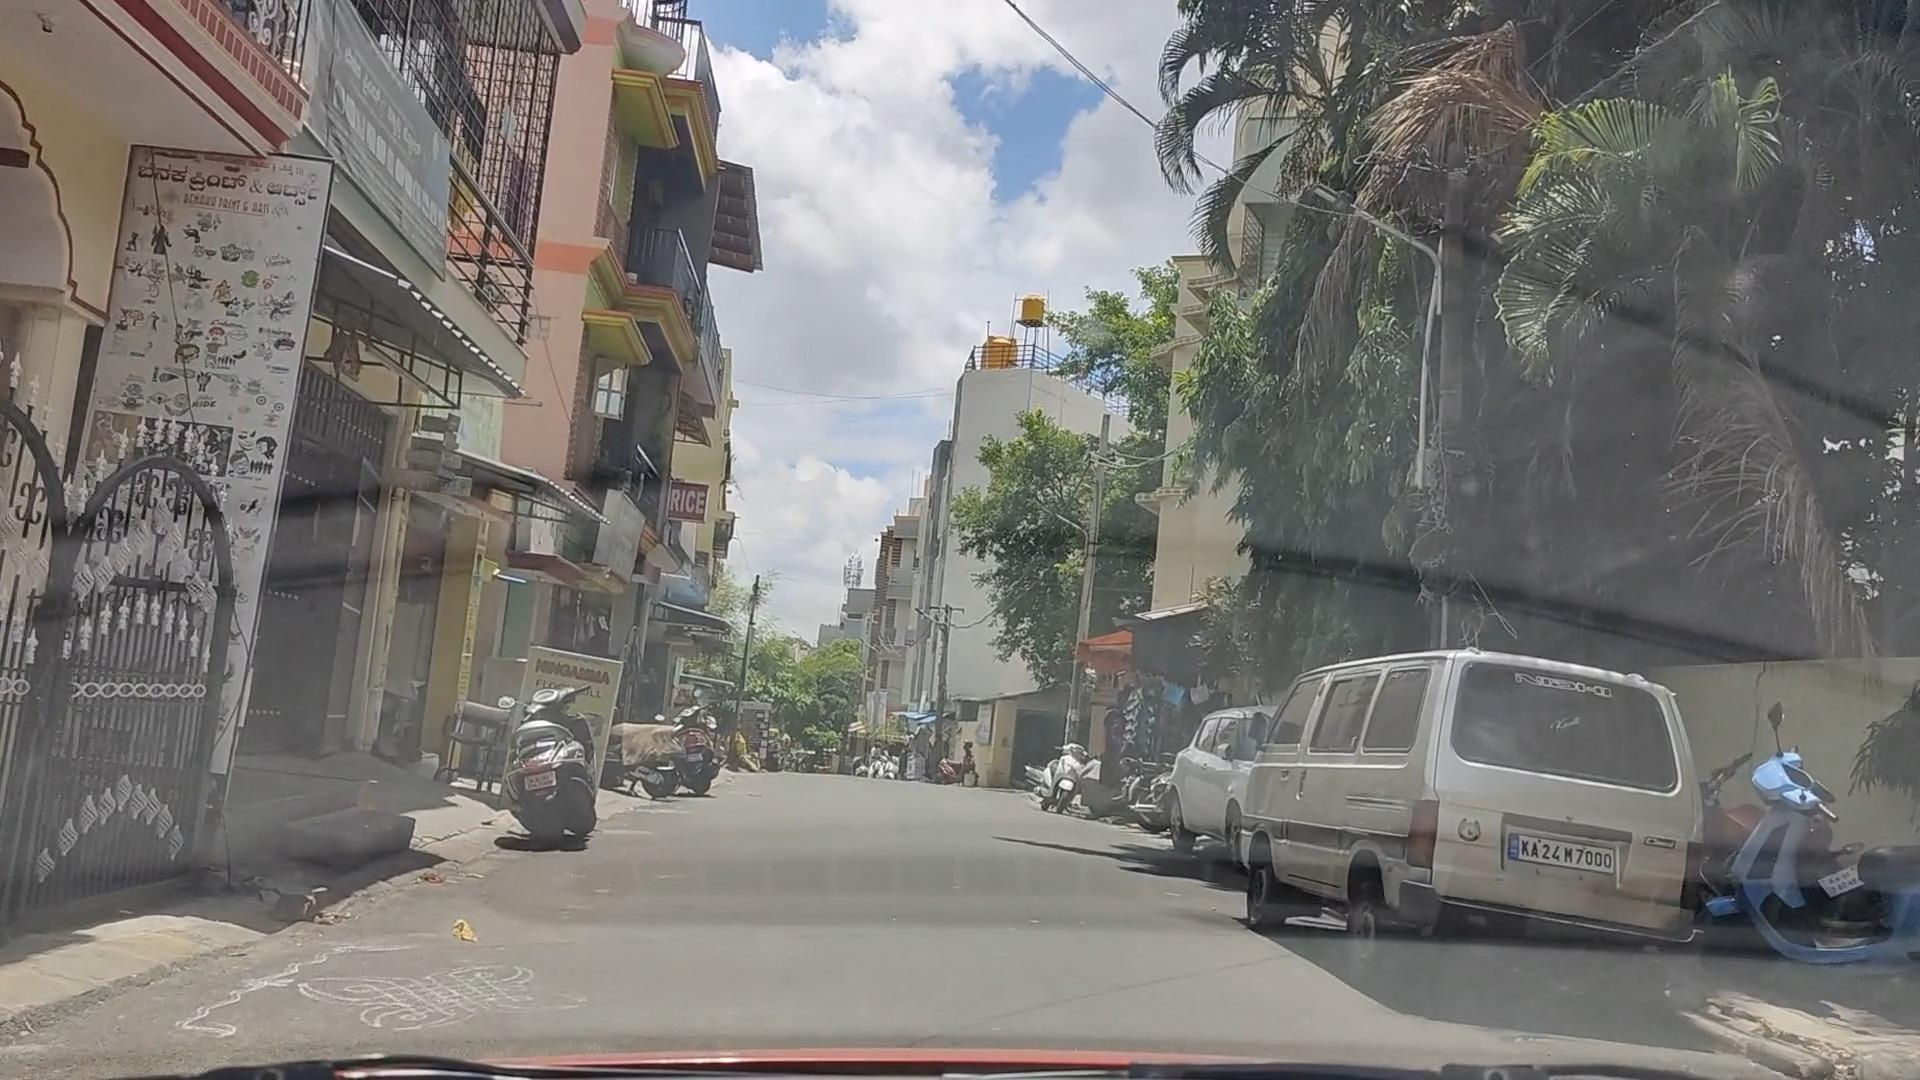LMV: (1265, 671, 1685, 949)
